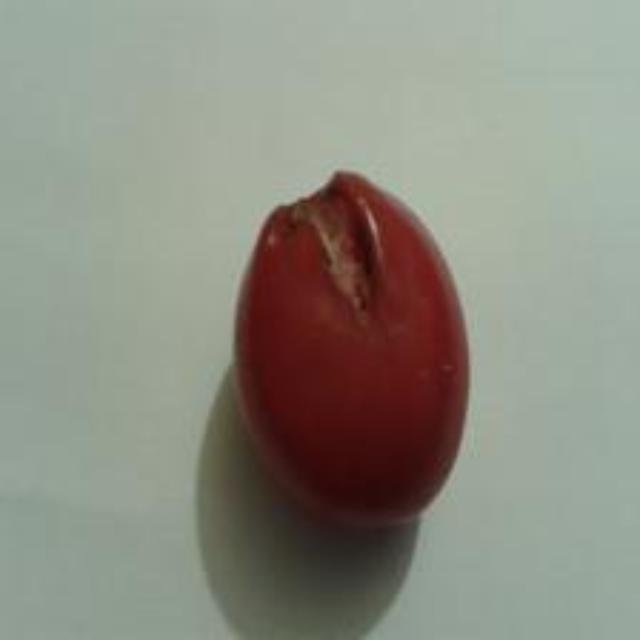defect: (230, 164, 493, 533)
